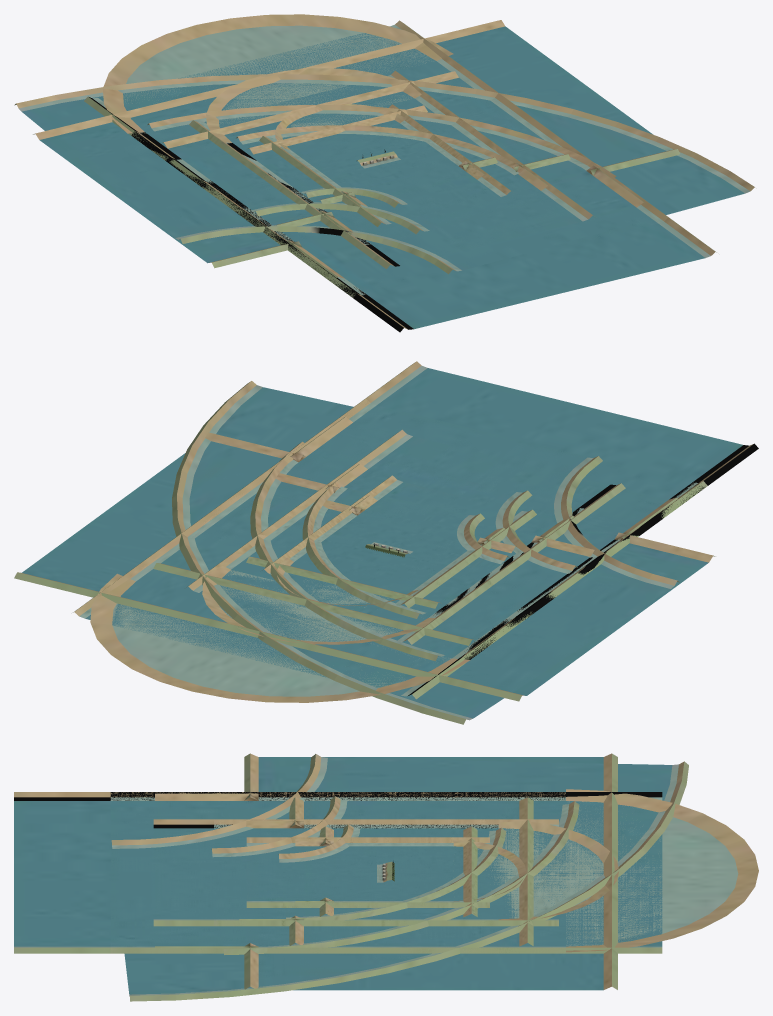
The model's file is river-kit.glb.
The picture shows the model from 3 angles, top to bottom: view 1: azimuth 30°, elevation 25°; view 2: azimuth 150°, elevation 25°; view 3: azimuth 270°, elevation 25°; orthographic projection. The views are drawn at different scales.
Visible parts, largest first — view 1: LOD0 (×12); view 2: LOD0 (×12); view 3: LOD0 (×12).
Boxes of the visible parts, left/top/right/bottom form: LOD0 (×12): left=14, top=14, right=754, bottom=332; LOD0 (×12): left=14, top=361, right=758, bottom=724; LOD0 (×12): left=14, top=753, right=758, bottom=1001.
Size of what is drawn, in the model's own units: 4.83 by 0.068 by 6.22.
2 materials, 2 textured.
